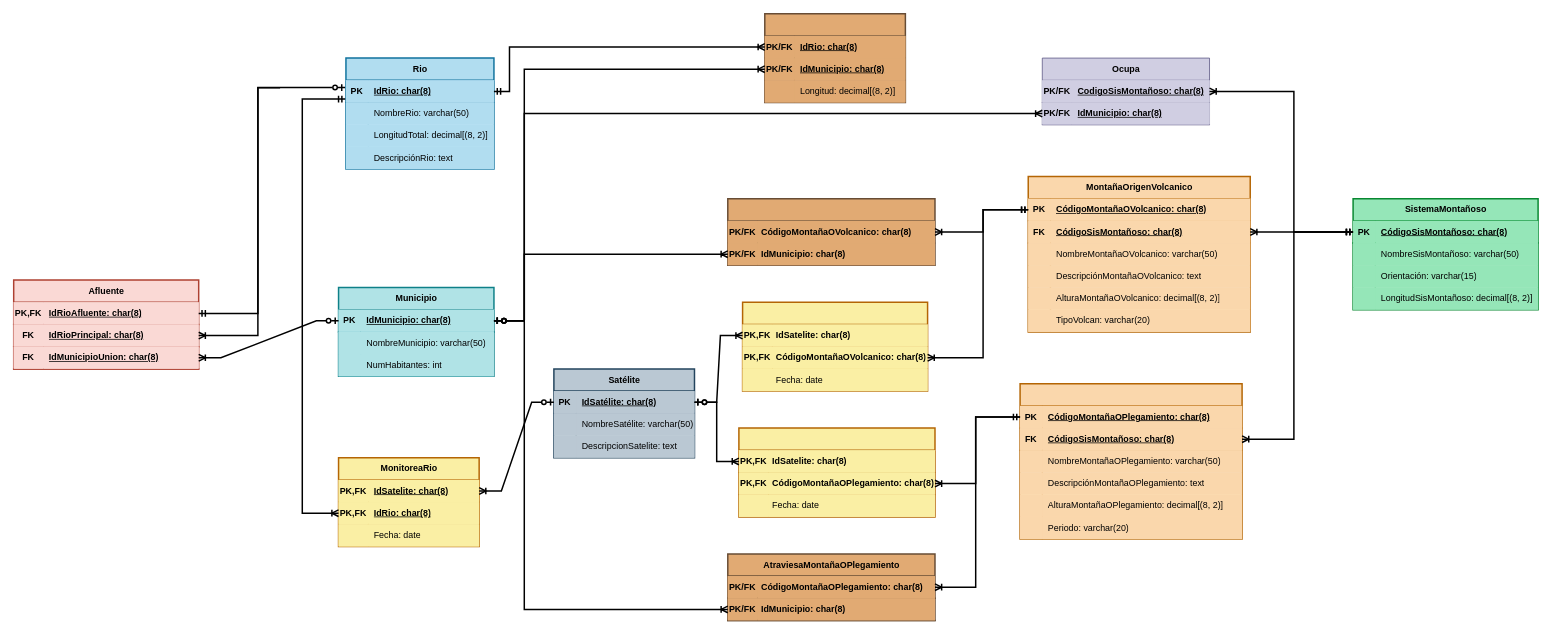
This 1551x633 diagram has some shape labels left out. The shapes that lost their labels are listed below. From the top down, each one's box as (x1, y1, x2, y2) in pixels, then its label:
(764, 13, 906, 103): AtraviesaRio
(727, 198, 935, 266): AtraviesaMontañaOVolcanico
(741, 301, 928, 391): MonitoreaMontañaOVolcanico
(738, 427, 935, 517): MonitoreaMontañaOPlegamiento
(1019, 383, 1242, 539): MontañaOrigenPlegamiento
